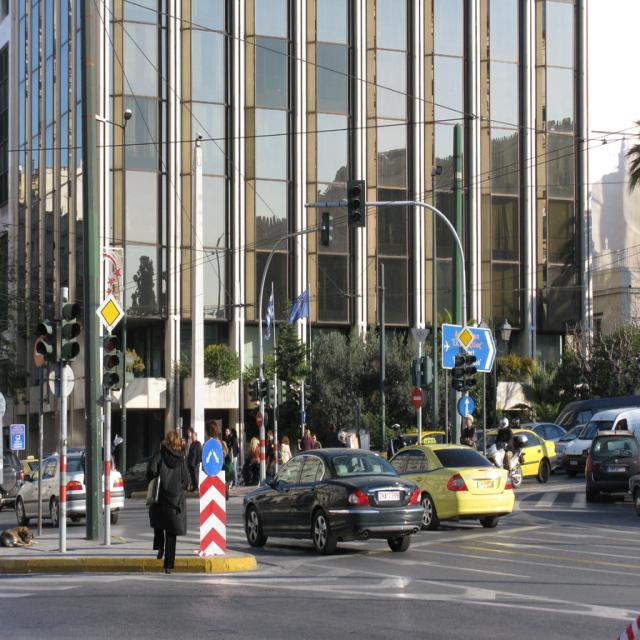car: (235, 451, 425, 559)
